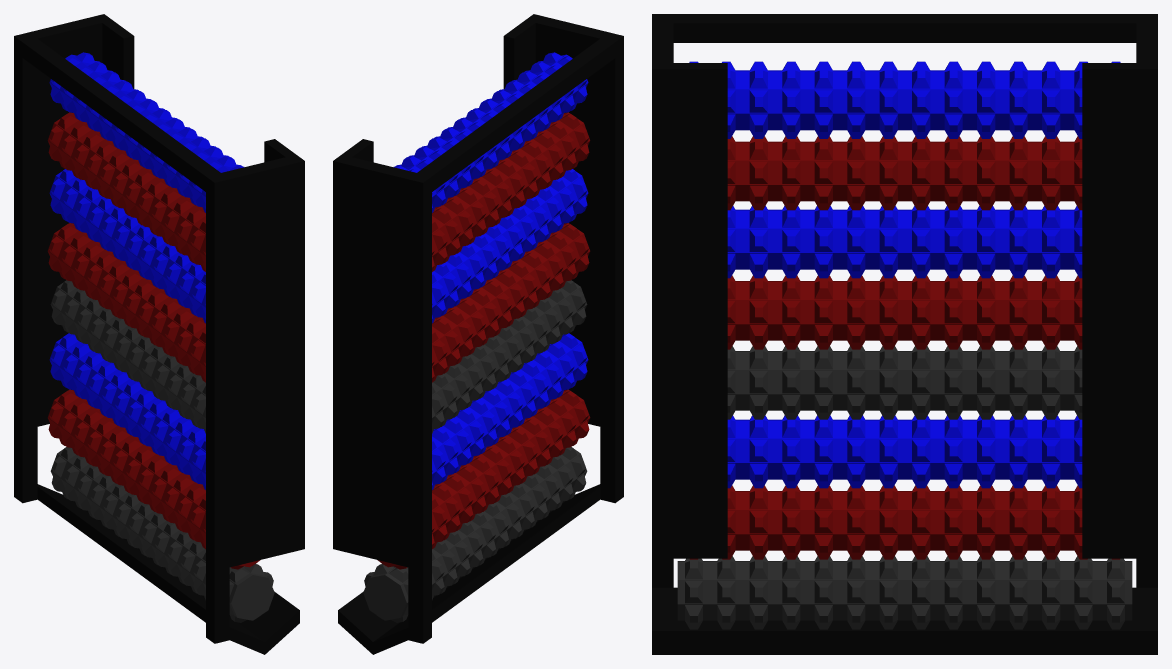
Rendered from MassageRollerRack.fbx.
3 views of the same model, side by side, from view 1: azimuth 30°, elevation 25°; view 2: azimuth 150°, elevation 25°; view 3: azimuth 270°, elevation 25° (orthographic). The views are drawn at different scales.
Visible parts, largest first — view 1: MassageRollerRack; view 2: MassageRollerRack; view 3: MassageRollerRack.
Part boxes in pixels (bbox=[...]): MassageRollerRack: bbox=[14, 14, 304, 654]; MassageRollerRack: bbox=[333, 14, 623, 654]; MassageRollerRack: bbox=[652, 14, 1157, 654].
Size of the model in its own units: 23.74 by 122 by 91.51.
